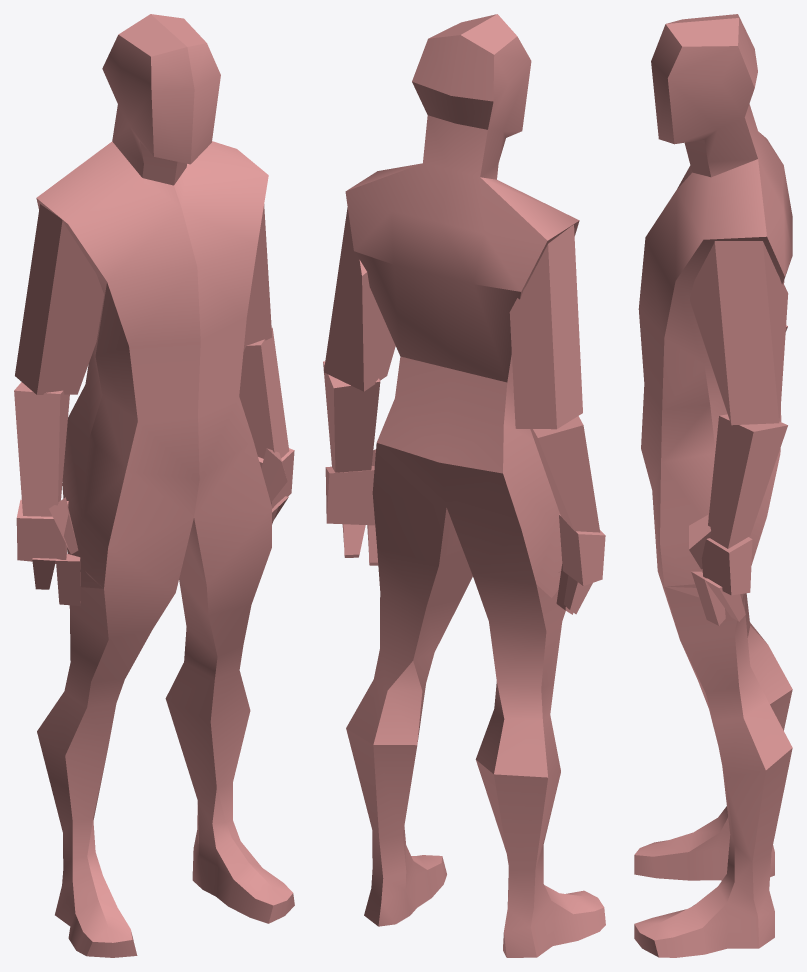
File: HumanScale.fbx
The picture shows the model from 3 angles, left to right: view 1: azimuth 30°, elevation 25°; view 2: azimuth 150°, elevation 25°; view 3: azimuth 270°, elevation 25°; orthographic projection.
Parts seen in each view (by area): view 1: HumanScale; view 2: HumanScale; view 3: HumanScale.
Part boxes in pixels (box(x1,y1,x2,y2)): HumanScale: box(14, 14, 294, 957); HumanScale: box(323, 14, 605, 957); HumanScale: box(634, 14, 792, 957).
Bounding box in the file's own units: 65.69 × 200 × 32.39.
